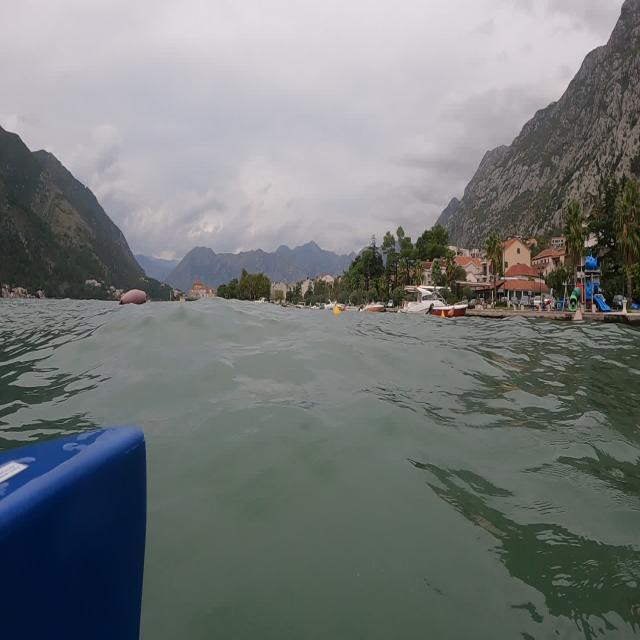boat: (397, 274, 474, 328)
buoy: (113, 286, 155, 311), (332, 299, 343, 317)
